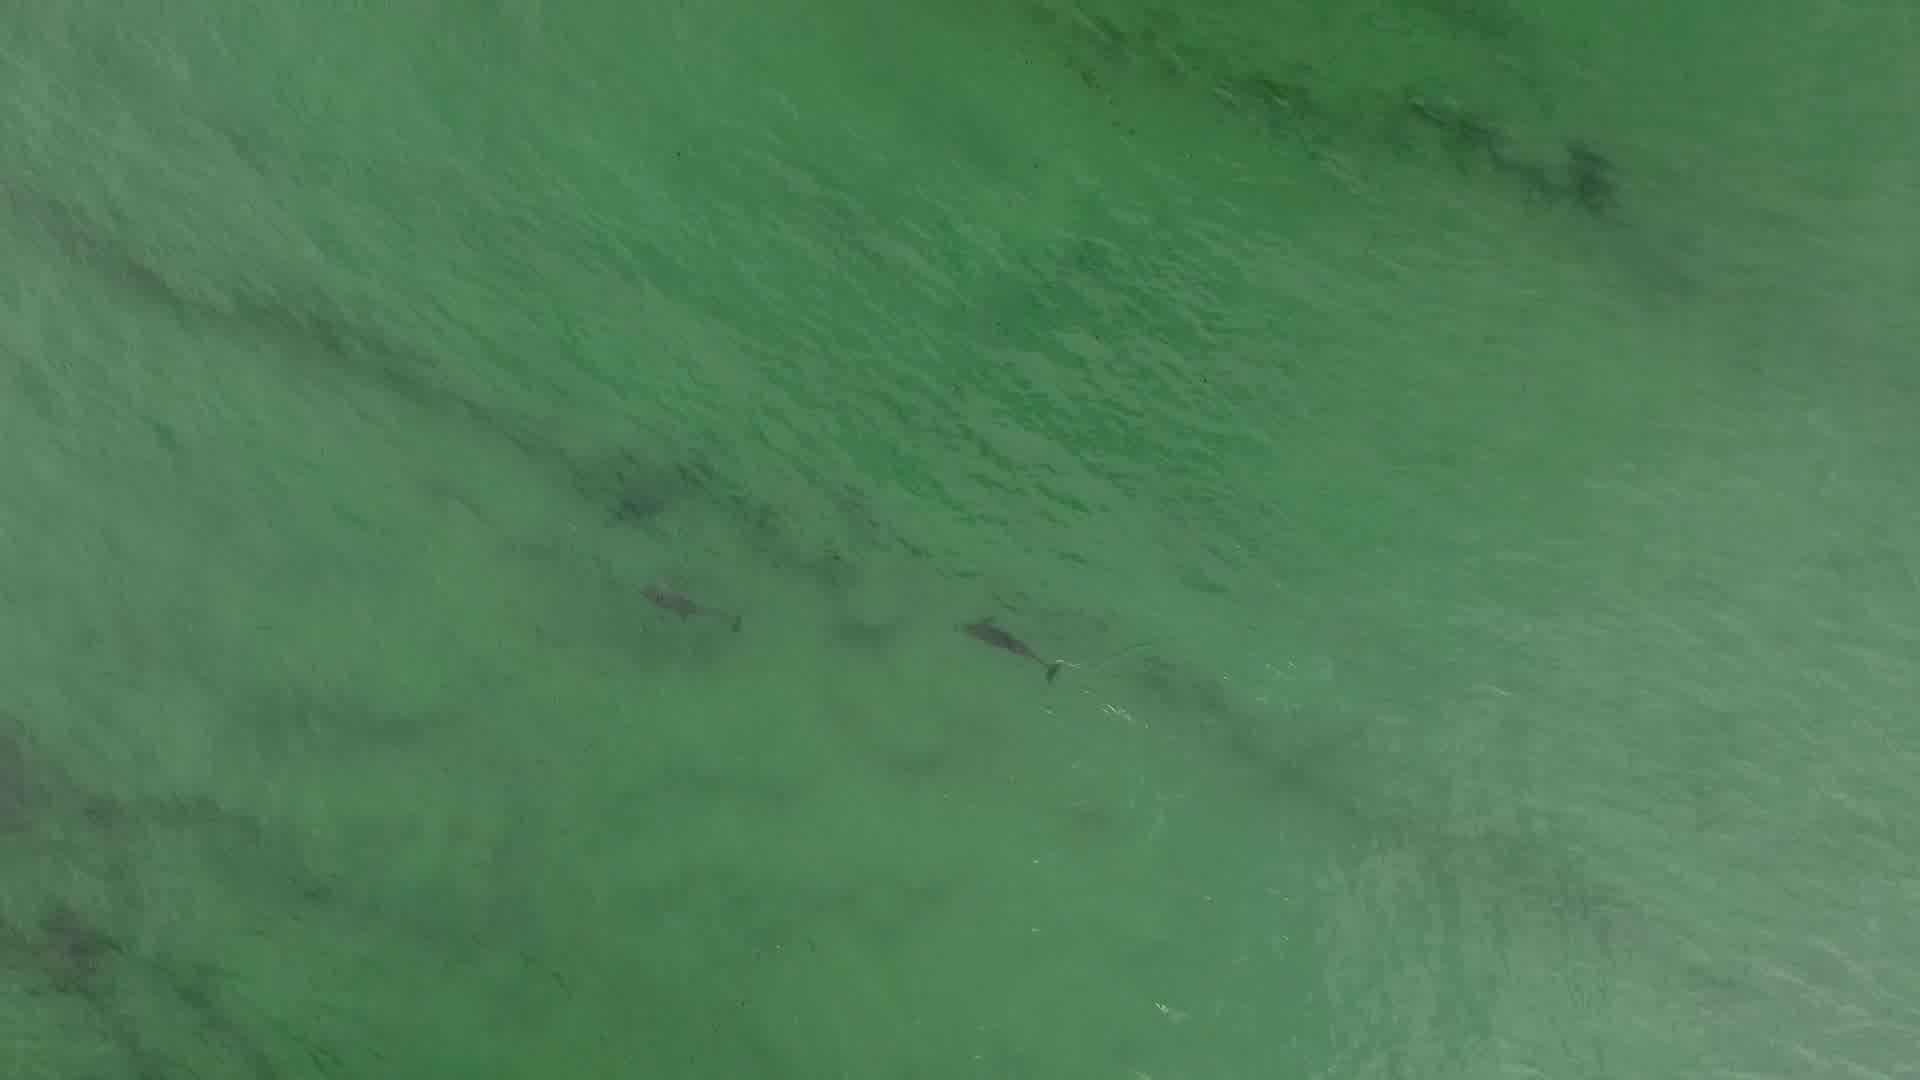dolphin: (942, 595, 1073, 696), (615, 562, 775, 644)
